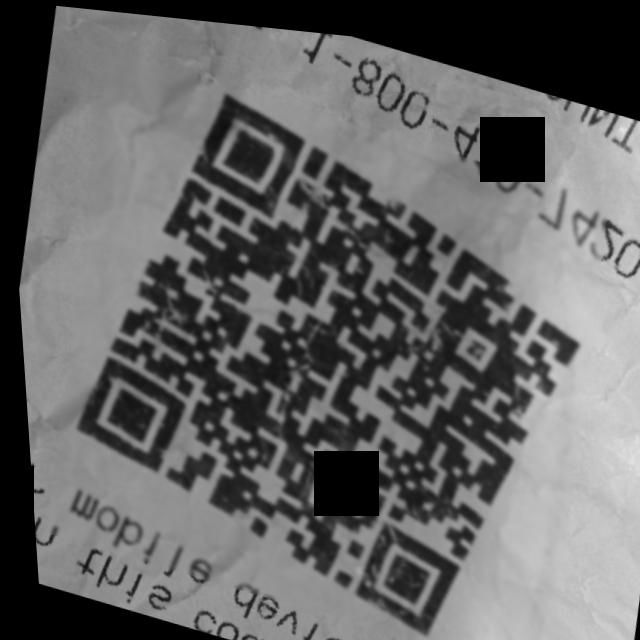QR_CODE: (13, 43, 633, 640)
